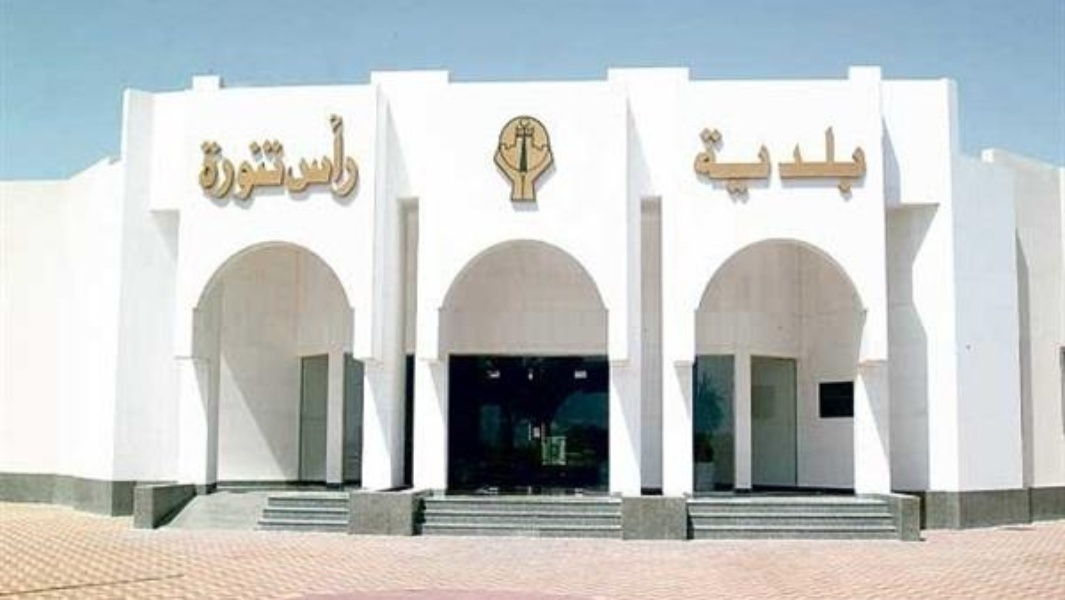text: (209, 109, 224, 205), (225, 109, 240, 205), (241, 109, 256, 205), (257, 109, 272, 205), (273, 109, 288, 205), (289, 109, 304, 205), (305, 109, 320, 205), (321, 109, 336, 205), (337, 109, 352, 205), (705, 127, 720, 198), (721, 127, 736, 198), (737, 127, 752, 198), (753, 127, 768, 198), (769, 127, 784, 198), (785, 127, 800, 198), (801, 127, 816, 198), (817, 127, 832, 198), (833, 127, 848, 198), (849, 127, 864, 198), (198, 109, 208, 205), (353, 109, 363, 205), (693, 127, 704, 198), (865, 127, 872, 198)
